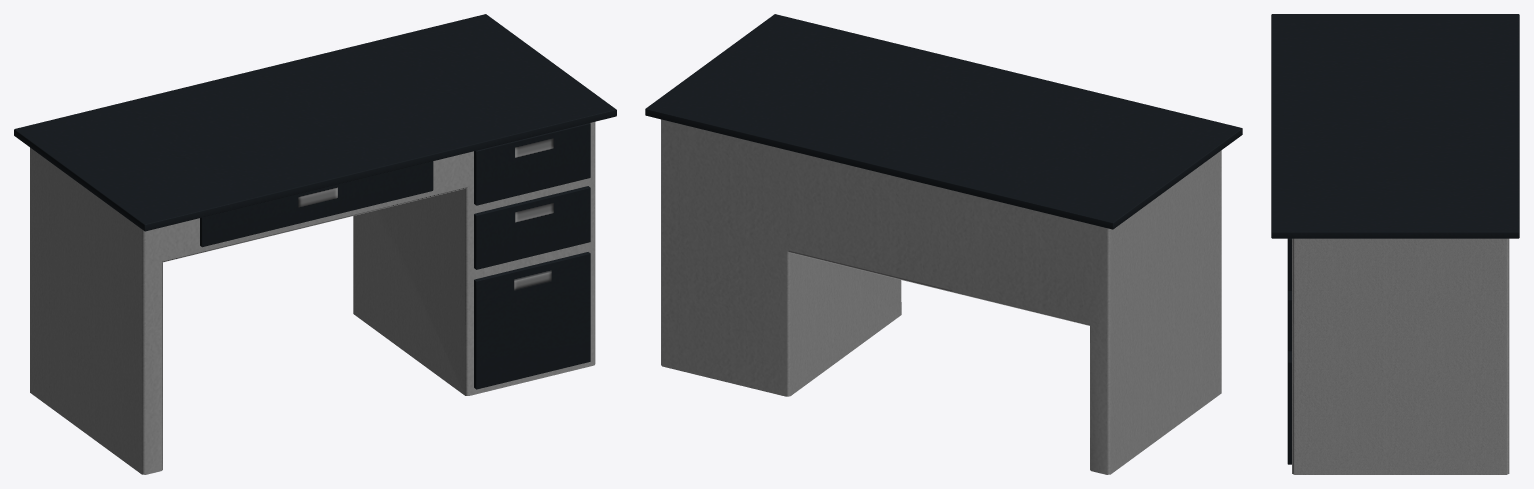
Rendered from deskMesh.fbx.
3 renders of one model, left to right at view 1: azimuth 30°, elevation 25°; view 2: azimuth 150°, elevation 25°; view 3: azimuth 270°, elevation 25°, orthographic. The views are drawn at different scales.
Parts seen in each view (by area): view 1: desk; view 2: desk; view 3: desk.
Boxes of the visible parts, left/top/right/bottom form: desk: left=14, top=14, right=616, bottom=474; desk: left=645, top=14, right=1242, bottom=474; desk: left=1271, top=14, right=1519, bottom=474.
Size of the model in its own units: 200 by 106 by 96.
